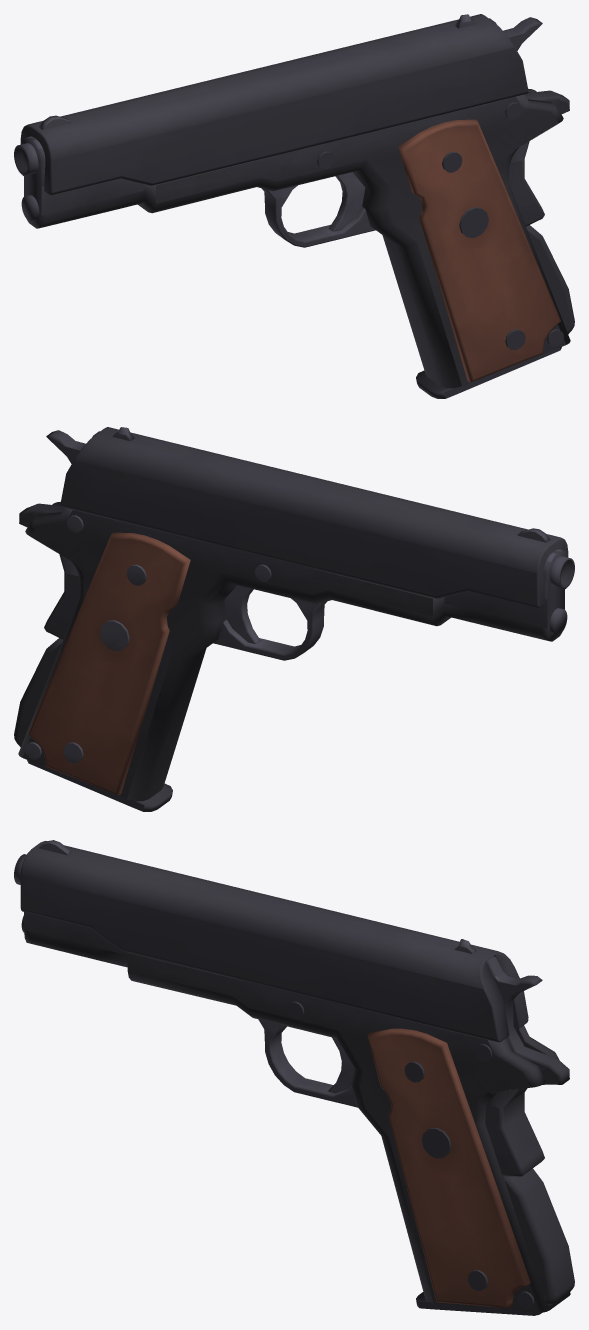
File: pistol.fbx
3 views of the same model, one above another, from view 1: azimuth 30°, elevation 25°; view 2: azimuth 150°, elevation 25°; view 3: azimuth 330°, elevation 25° (orthographic).
Parts seen in each view (by area): view 1: colt1911, trigger, cartridge; view 2: colt1911, trigger, cartridge; view 3: colt1911, cartridge, trigger.
Boxes of the visible parts, x1,y1,x2,y2 form: colt1911: [14, 14, 574, 388]; trigger: [329, 172, 365, 231]; cartridge: [416, 347, 561, 398]; colt1911: [14, 427, 574, 801]; trigger: [224, 585, 260, 643]; cartridge: [27, 760, 172, 811]; colt1911: [14, 840, 574, 1312]; cartridge: [416, 1292, 541, 1315]; trigger: [328, 1037, 353, 1093].
Size of the model in its own units: 27.77 by 17.92 by 3.45.
1 material, 1 textured.
